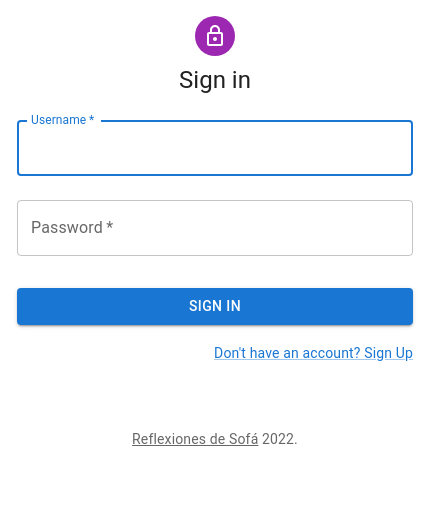
Test: Display error alert when response status is not 200 nor 401.
Type "username" into the field with id "username" at (215, 148), box [17,120,413,176]
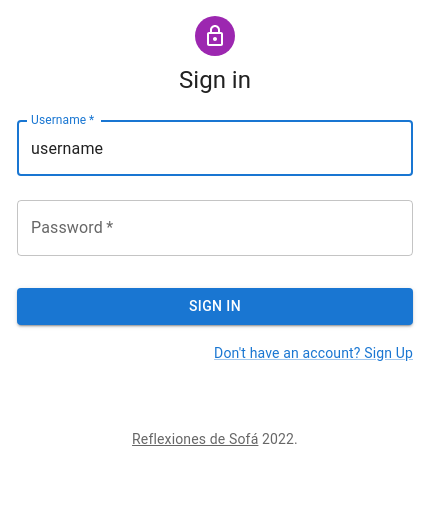
Type "password" into the password field labelled "Password *" at (215, 228), box [17,200,413,256]
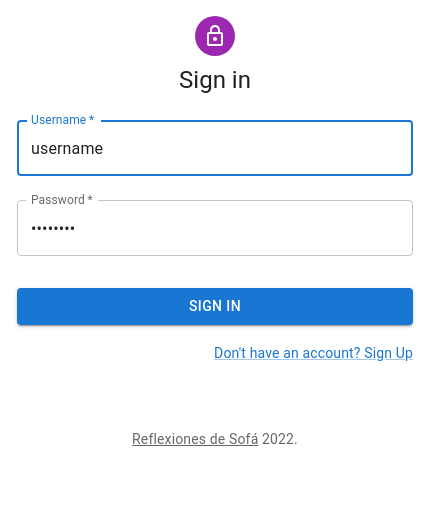
Click the button with test id "sign-in-button" at (215, 306), box [17,288,413,324]
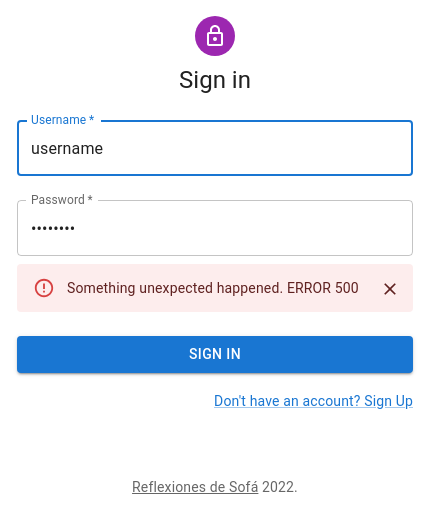
Result: the message "Something unexpected happened. ERROR 500" is shown at [17,264,413,312]
